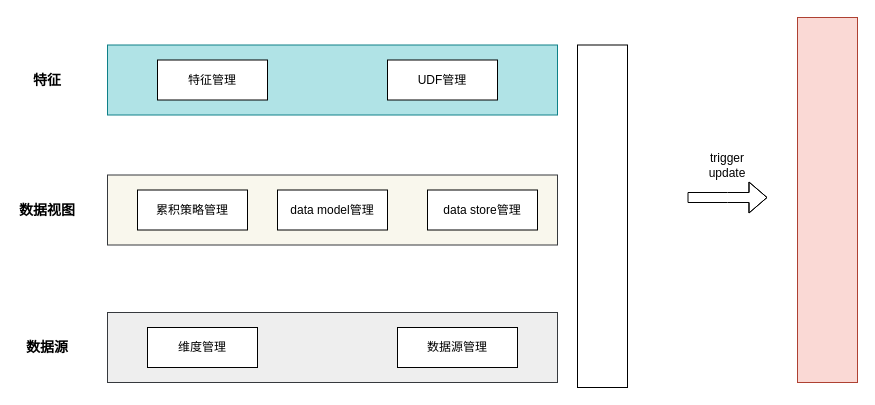
Image size: 875x405. Some labels were removed from this diagram. Each missing label, with the box of its shape:
Runtime Repositroy: (796, 16, 858, 382)
特征 血缘 管理: (576, 44, 628, 388)
